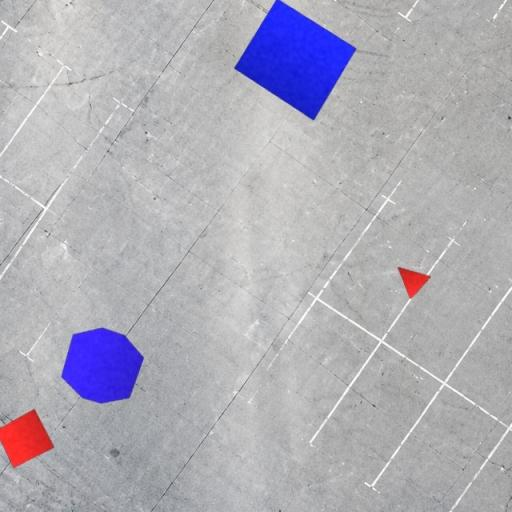BLUE_SQUARE: (234, 0, 358, 122)
RED_SQUARE: (0, 408, 55, 469)
